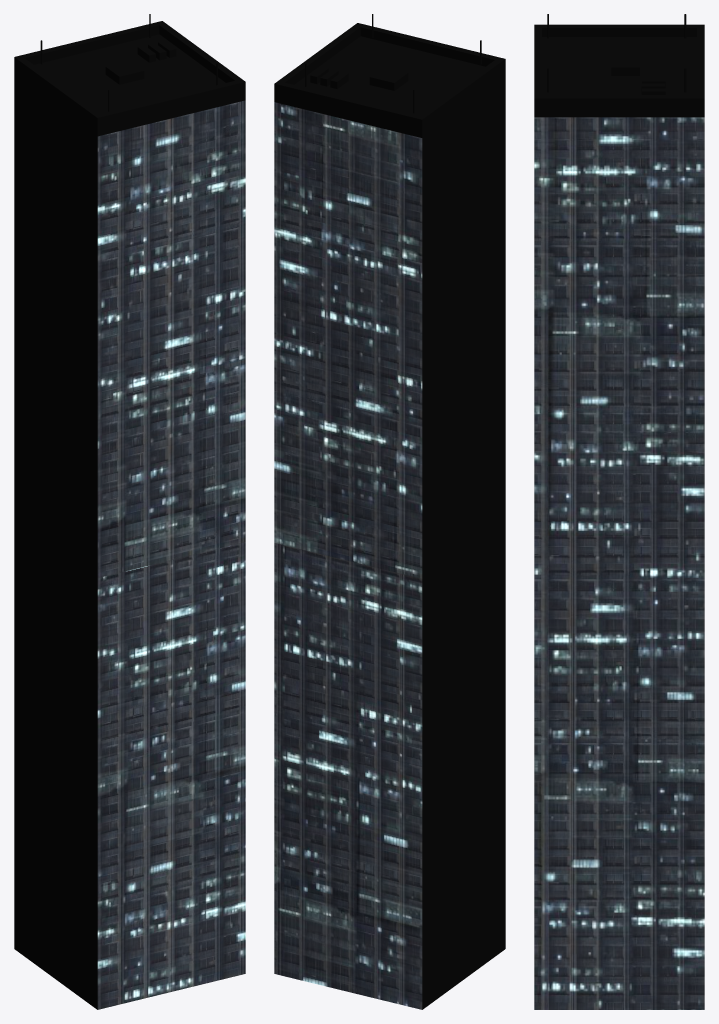
The model's file is dark-skyscraper2-baked.glb.
The picture shows the model from 3 angles, left to right: view 1: azimuth 30°, elevation 25°; view 2: azimuth 150°, elevation 25°; view 3: azimuth 270°, elevation 25°; orthographic projection. The views are drawn at different scales.
Visible parts, largest first — view 1: dark-skyscraper.003; view 2: dark-skyscraper.003; view 3: dark-skyscraper.003.
Boxes of the visible parts, x1,y1,x2,y2 form: dark-skyscraper.003: (14, 14, 245, 1009); dark-skyscraper.003: (274, 14, 505, 1009); dark-skyscraper.003: (534, 14, 704, 1009).
Size of the model in its own units: 76.03 by 446 by 74.04.
Materials: 1 (1 with a texture image).
